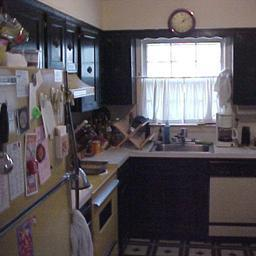Electrodomestico: (2, 66, 72, 253), (210, 154, 255, 237), (83, 167, 118, 255)
Lavaplatos: (153, 124, 217, 153)
Ventana: (137, 39, 223, 124)
